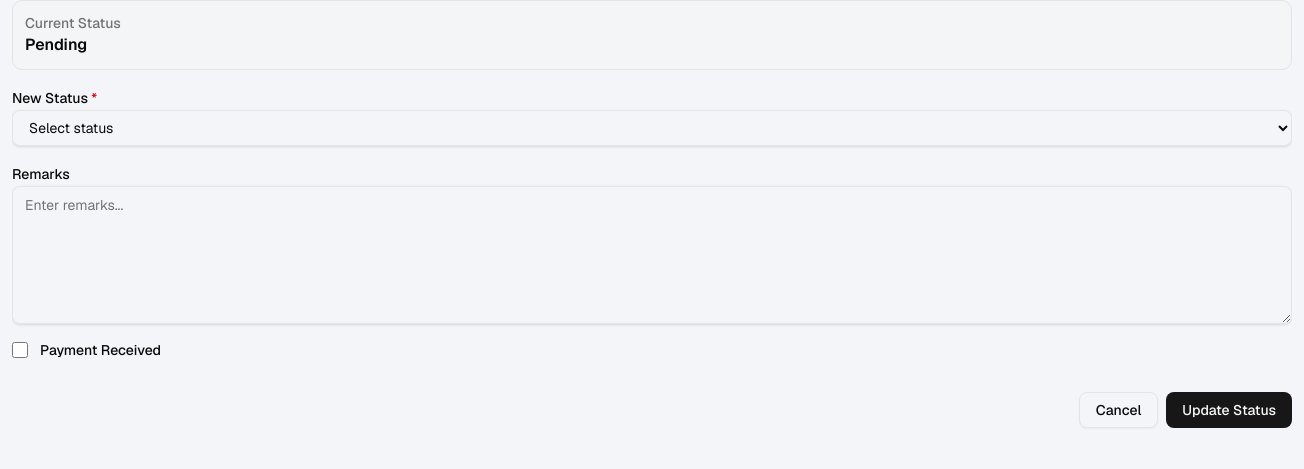
Test case: StatusUpdateForm › shows validation error when status is not selected
Click the button "Update Status". click: coordinates (1229, 410)
box: [1166,392,1292,428]
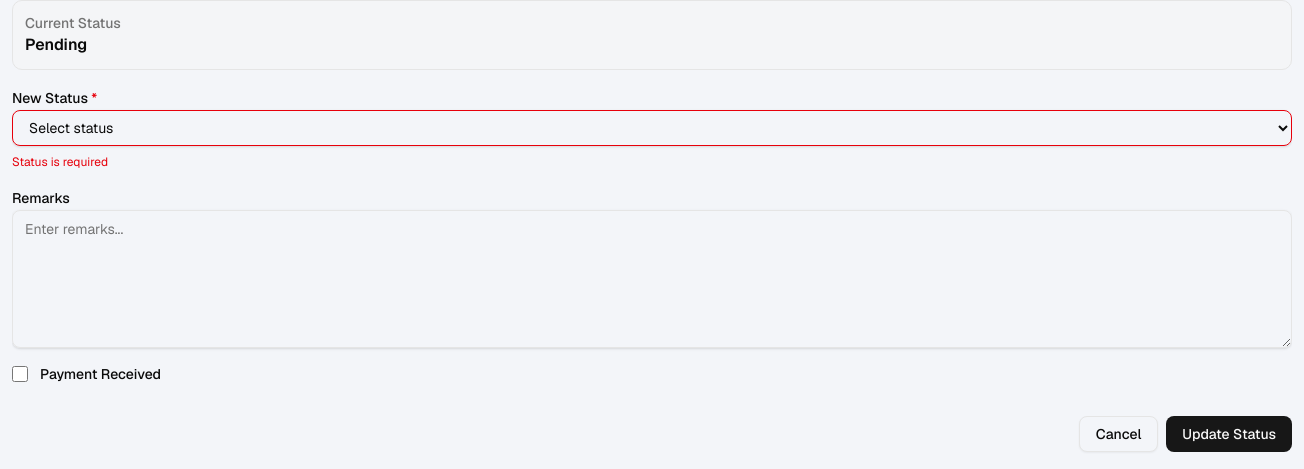
Expected: the text "Status is required" is shown, [12,154,108,170]
